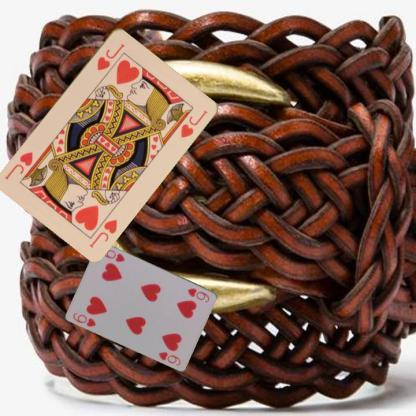6h: (70, 310, 98, 328), (185, 286, 211, 304)
Jh: (86, 216, 119, 249), (94, 40, 126, 72)
